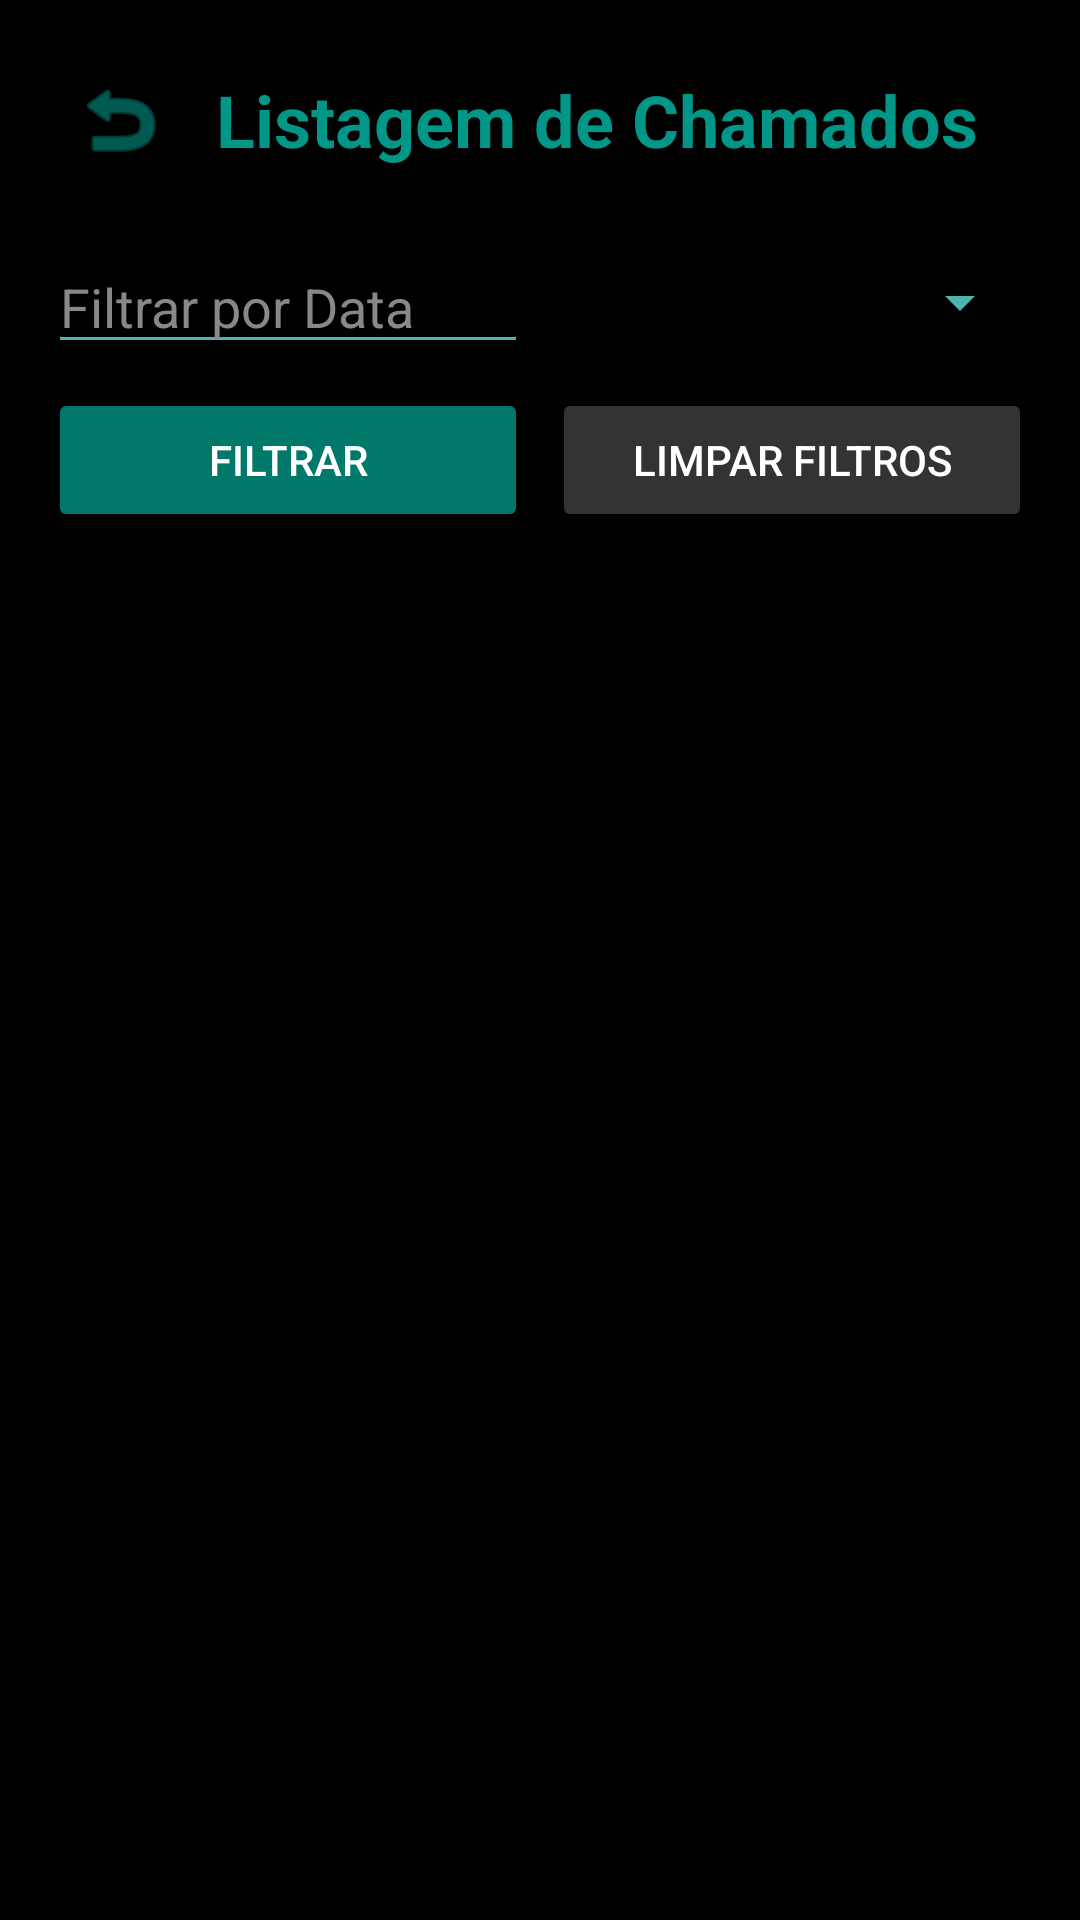

Where icons sit on this 1080px x 1920px app screen, as (x1, y1, x2, y2):
Voltar: (87, 90, 156, 152)
